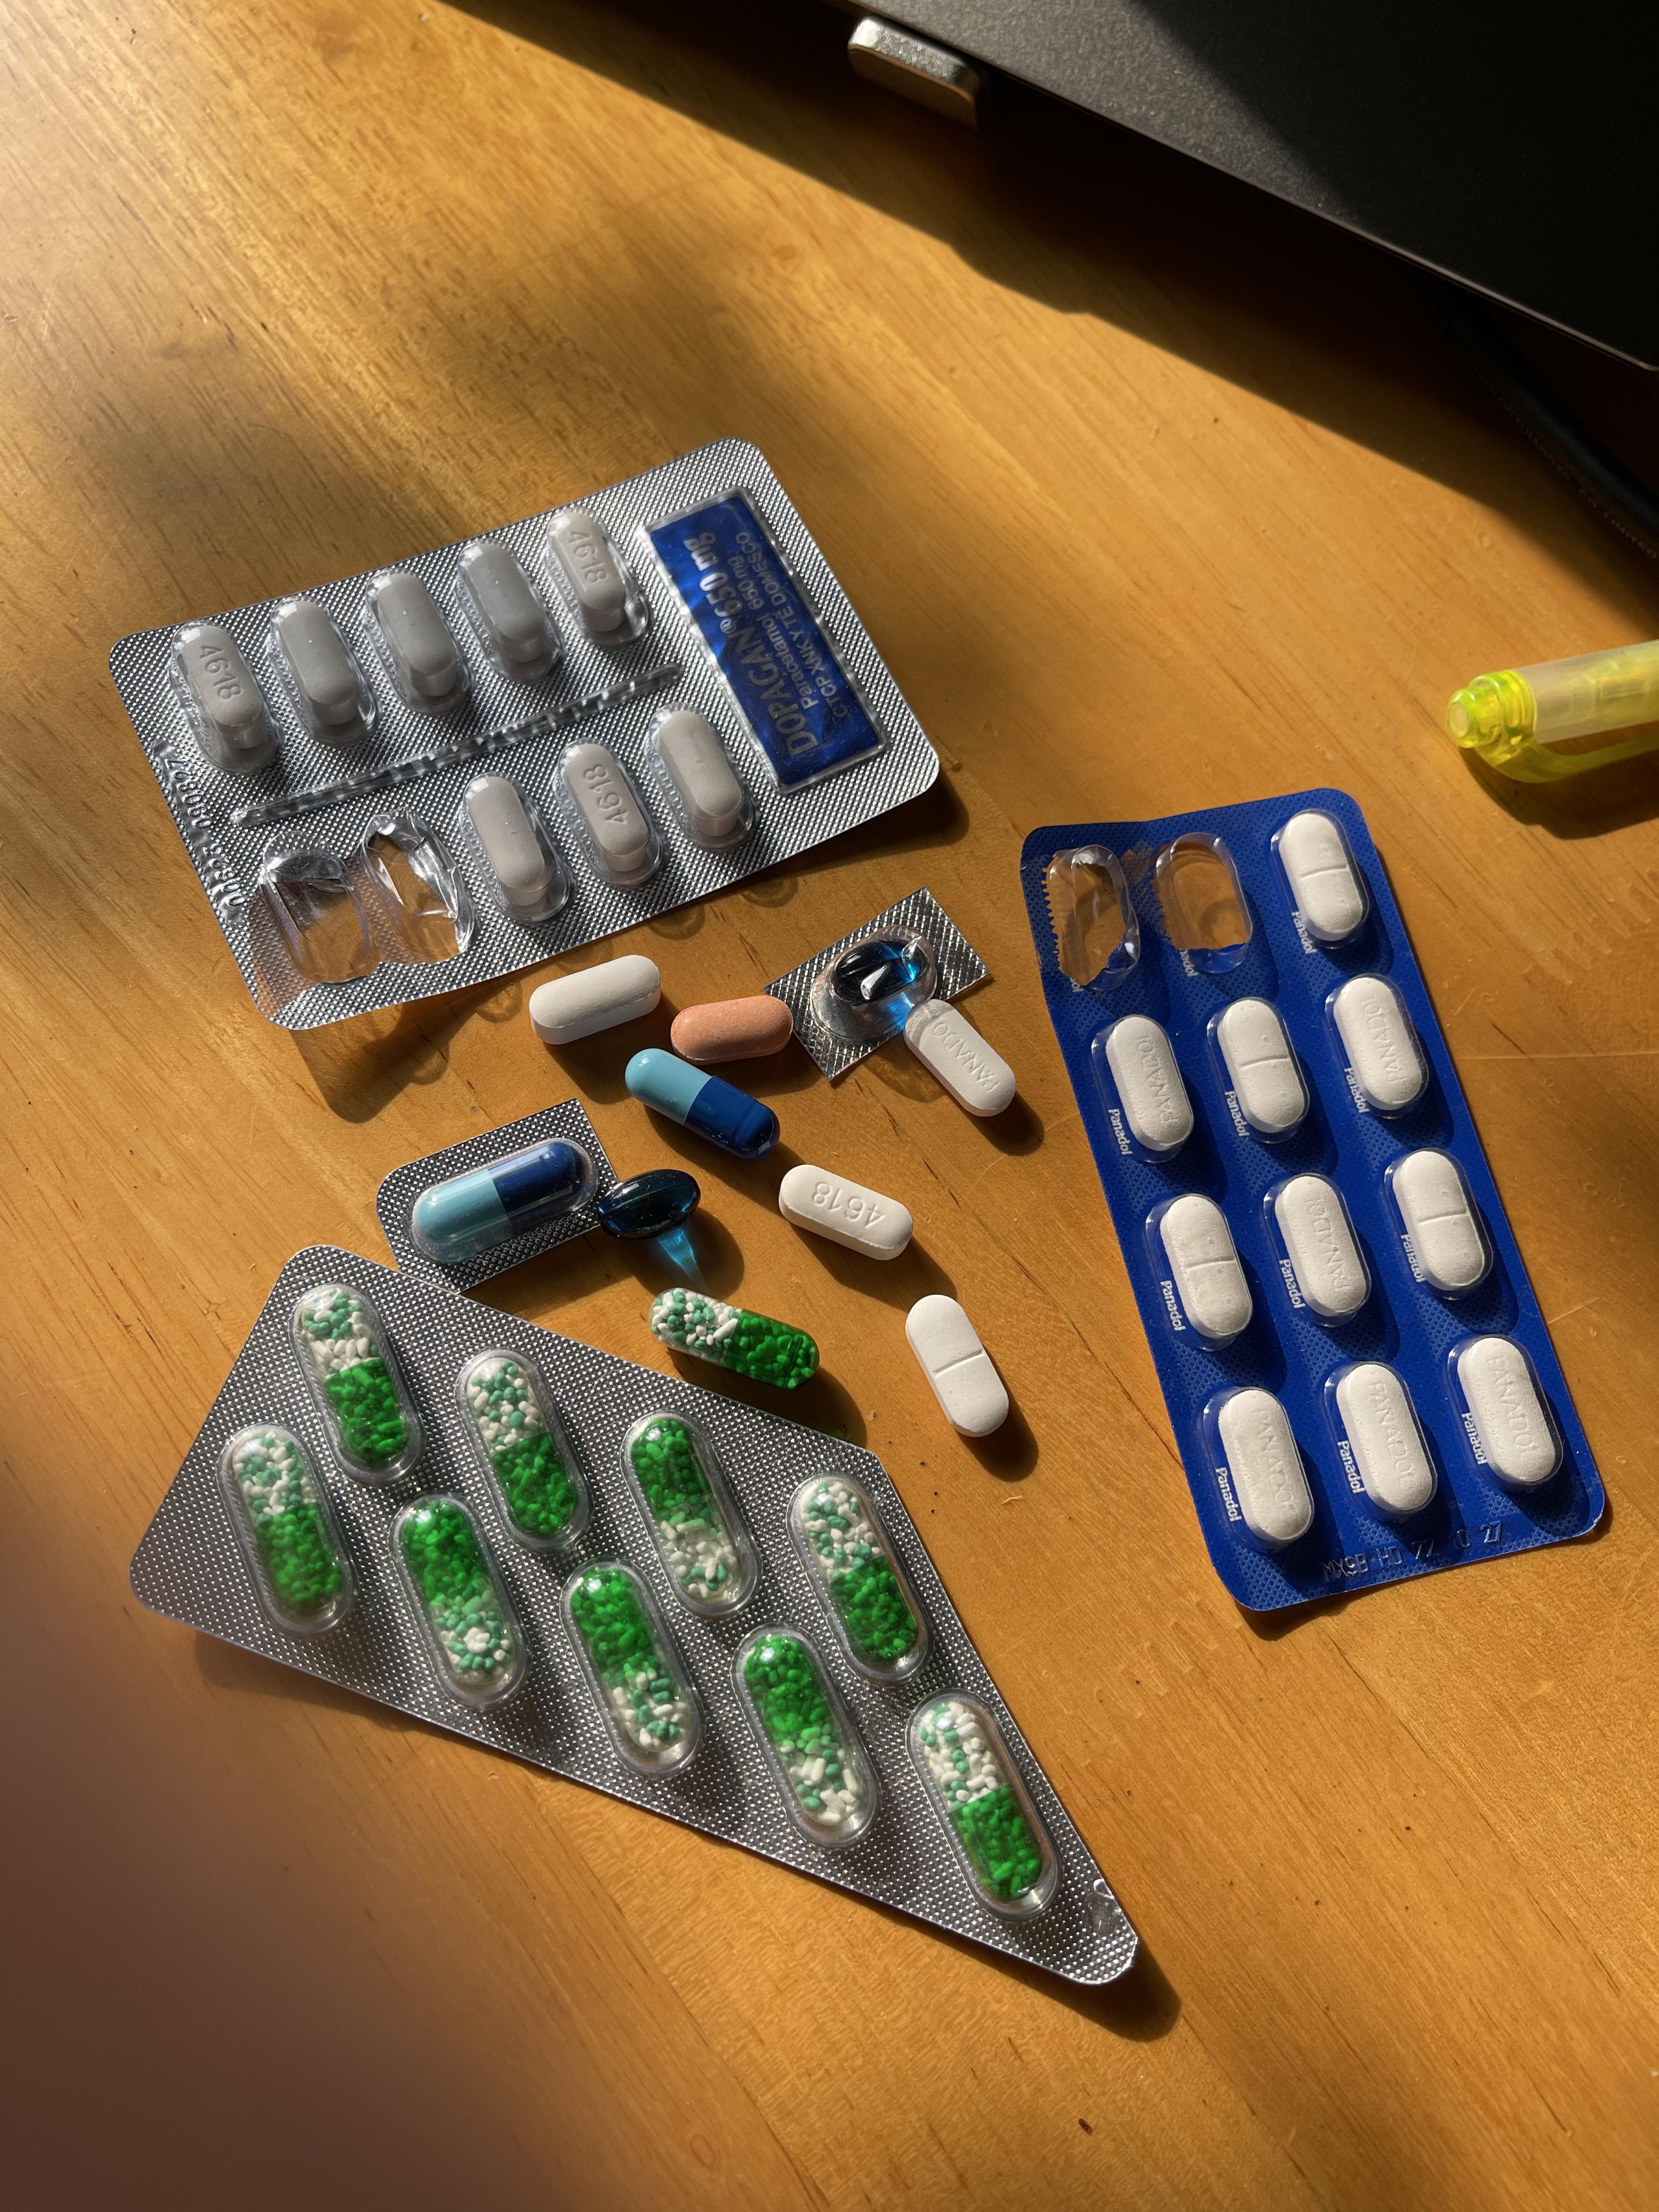Lincomyxin_500mg: (592, 1169, 699, 1235), (833, 942, 913, 1010)
Loratadine_10mg: (669, 995, 789, 1061)
Paracetamol_350mg: (1455, 1334, 1560, 1493), (1333, 1360, 1434, 1521), (904, 1294, 1011, 1439), (1216, 1386, 1312, 1547), (1391, 1148, 1490, 1298), (1272, 1172, 1368, 1320), (1159, 1193, 1251, 1341), (1215, 996, 1307, 1139), (1331, 975, 1425, 1115), (908, 1005, 1016, 1118), (1103, 1015, 1192, 1153), (1279, 812, 1366, 944)
Paracetamol_500mg: (458, 775, 565, 928), (647, 707, 753, 852), (563, 742, 660, 885), (174, 629, 275, 766), (272, 599, 371, 738), (777, 1163, 913, 1261), (371, 571, 467, 709), (460, 542, 558, 676), (545, 507, 640, 641), (526, 956, 664, 1043)
Paracetamol_650mg: (917, 1696, 1040, 1900), (744, 1634, 864, 1838), (572, 1569, 688, 1759), (401, 1503, 514, 1688), (634, 1423, 748, 1604), (803, 1480, 913, 1658), (232, 1435, 340, 1613), (469, 1364, 579, 1536), (300, 1291, 410, 1461), (653, 1291, 816, 1390)
pill: (410, 1141, 587, 1258), (624, 1045, 777, 1157)
